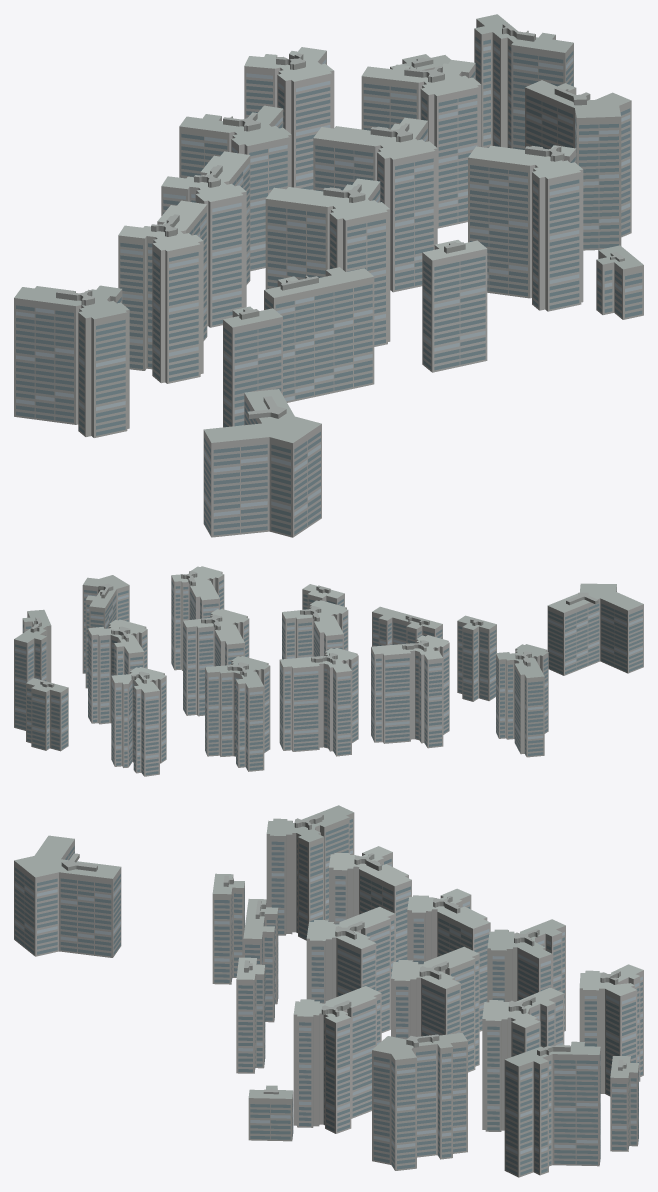
The model's file is apt-a10026418.glb.
3 renders of one model, top to bottom at view 1: azimuth 30°, elevation 25°; view 2: azimuth 150°, elevation 25°; view 3: azimuth 270°, elevation 25°, orthographic. The views are drawn at different scales.
Parts seen in each view (by area): view 1: apt-a10026418; view 2: apt-a10026418; view 3: apt-a10026418.
Part boxes in pixels (x1,y1,x2,y2): apt-a10026418: [14, 14, 643, 537]; apt-a10026418: [14, 566, 643, 776]; apt-a10026418: [14, 805, 643, 1177].
Size of the model in its own units: 303 by 60 by 296.
